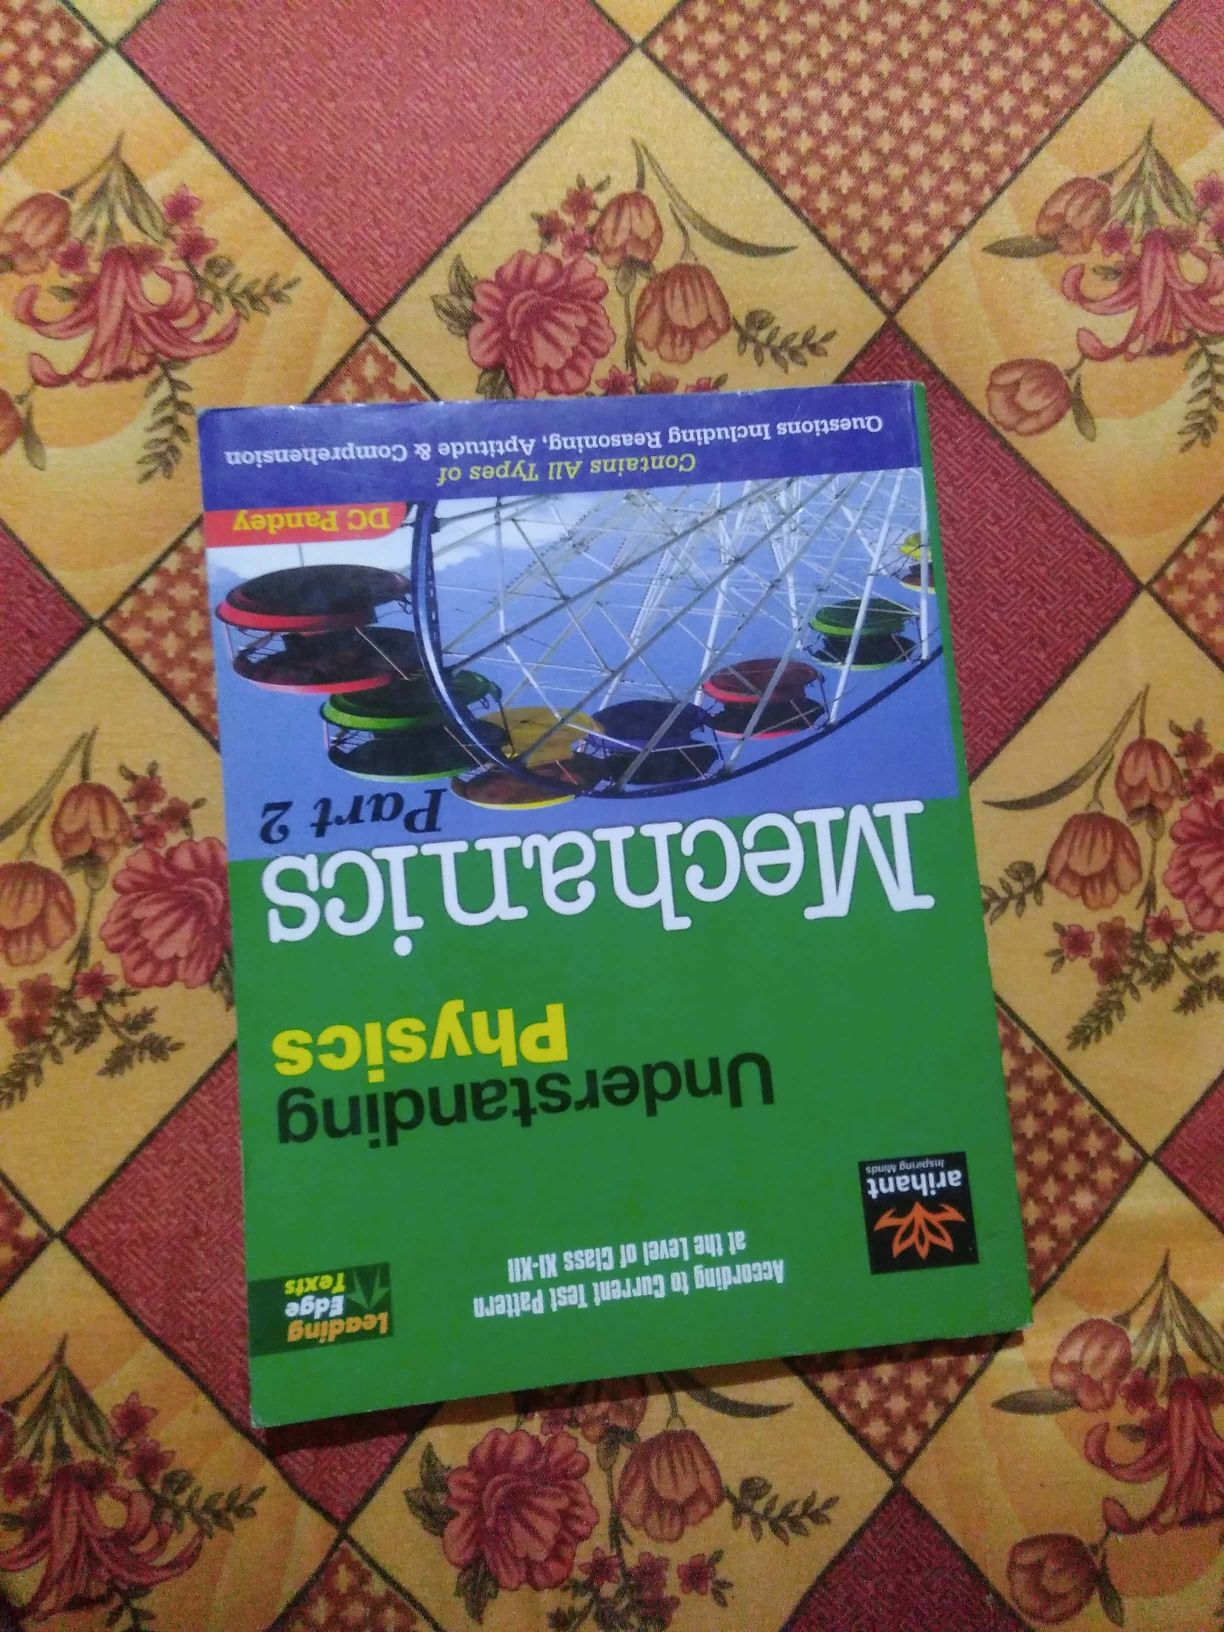mechanics: (139, 353, 1095, 1450)
